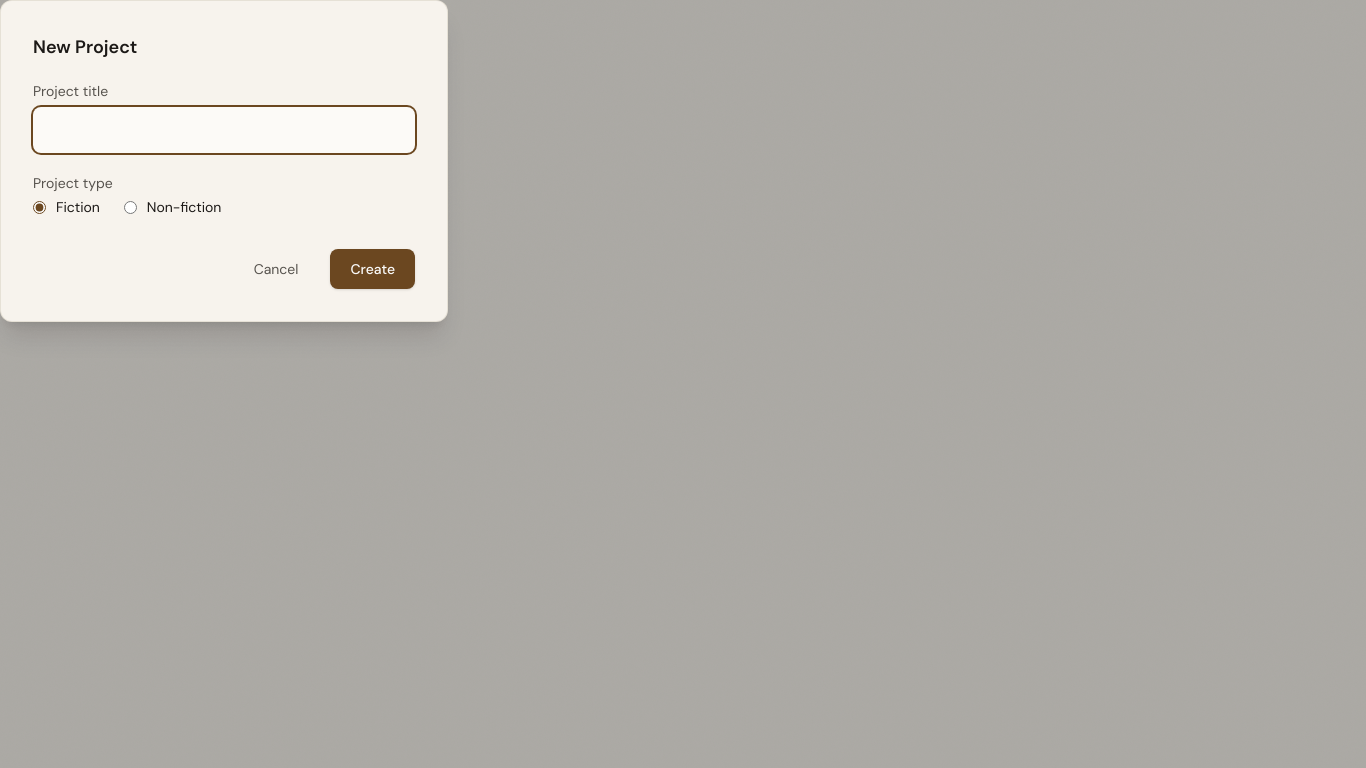
Test: NewProjectDialog › resets form after submission
Type "My Novel" into the field at (224, 130), box x1=33 y1=107 x2=415 y2=153
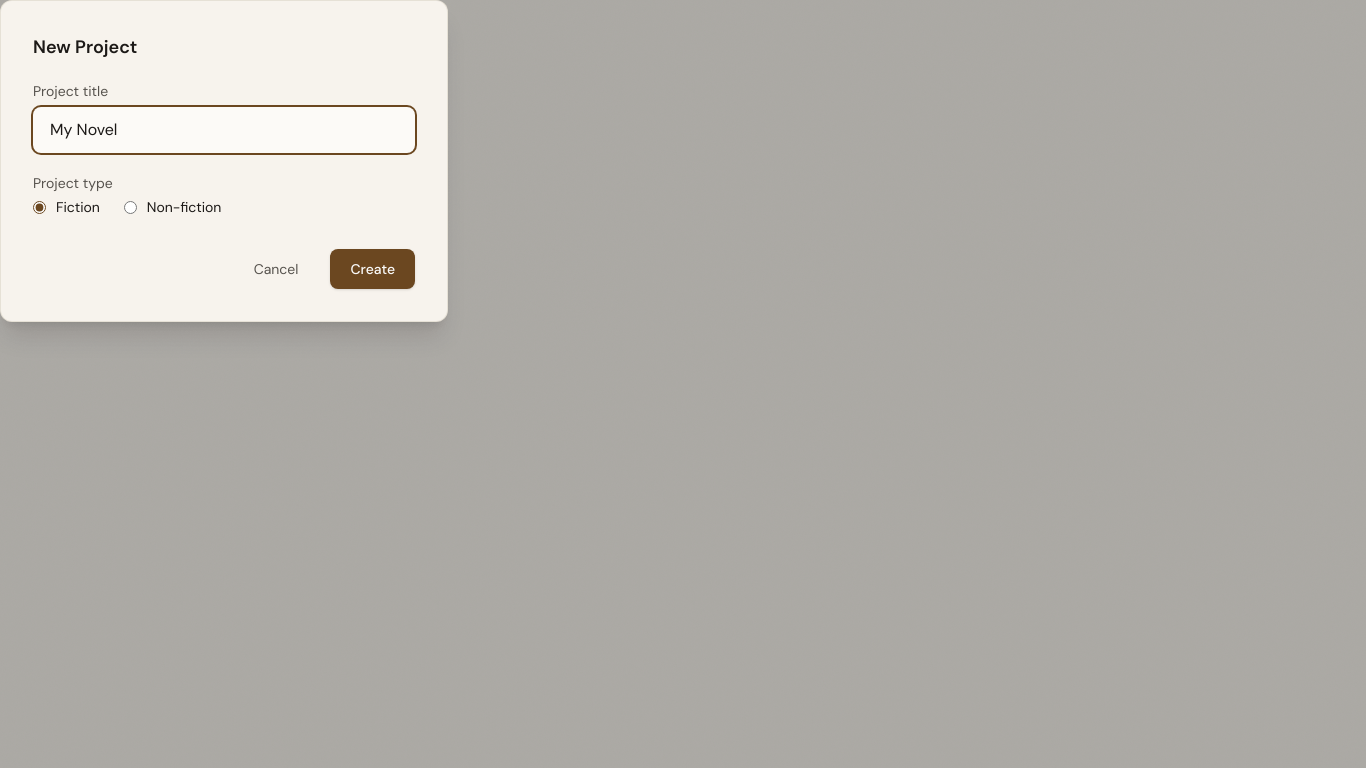
Submit the form, box x1=33 y1=33 x2=415 y2=289
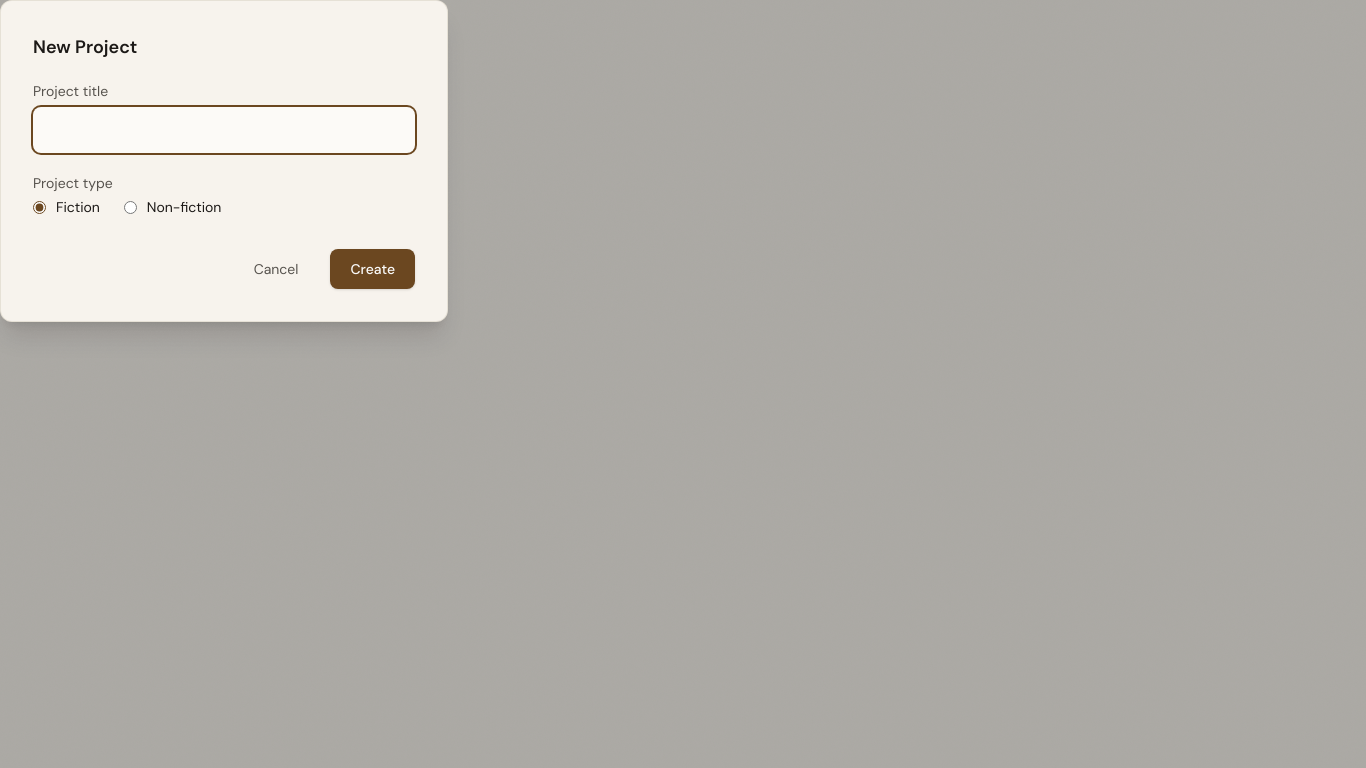
Expected: the field is empty, x1=33 y1=107 x2=415 y2=153
